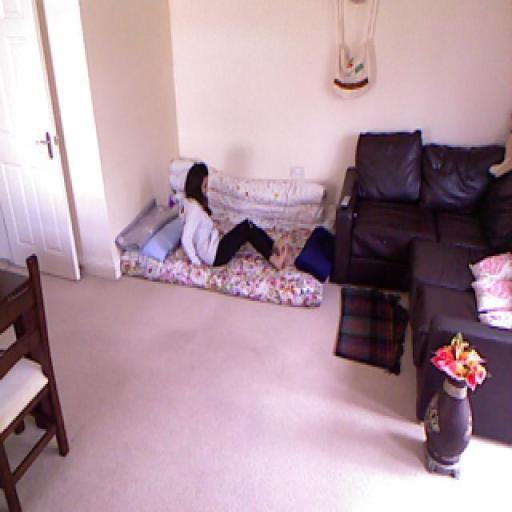Fall: (179, 160, 288, 271)
